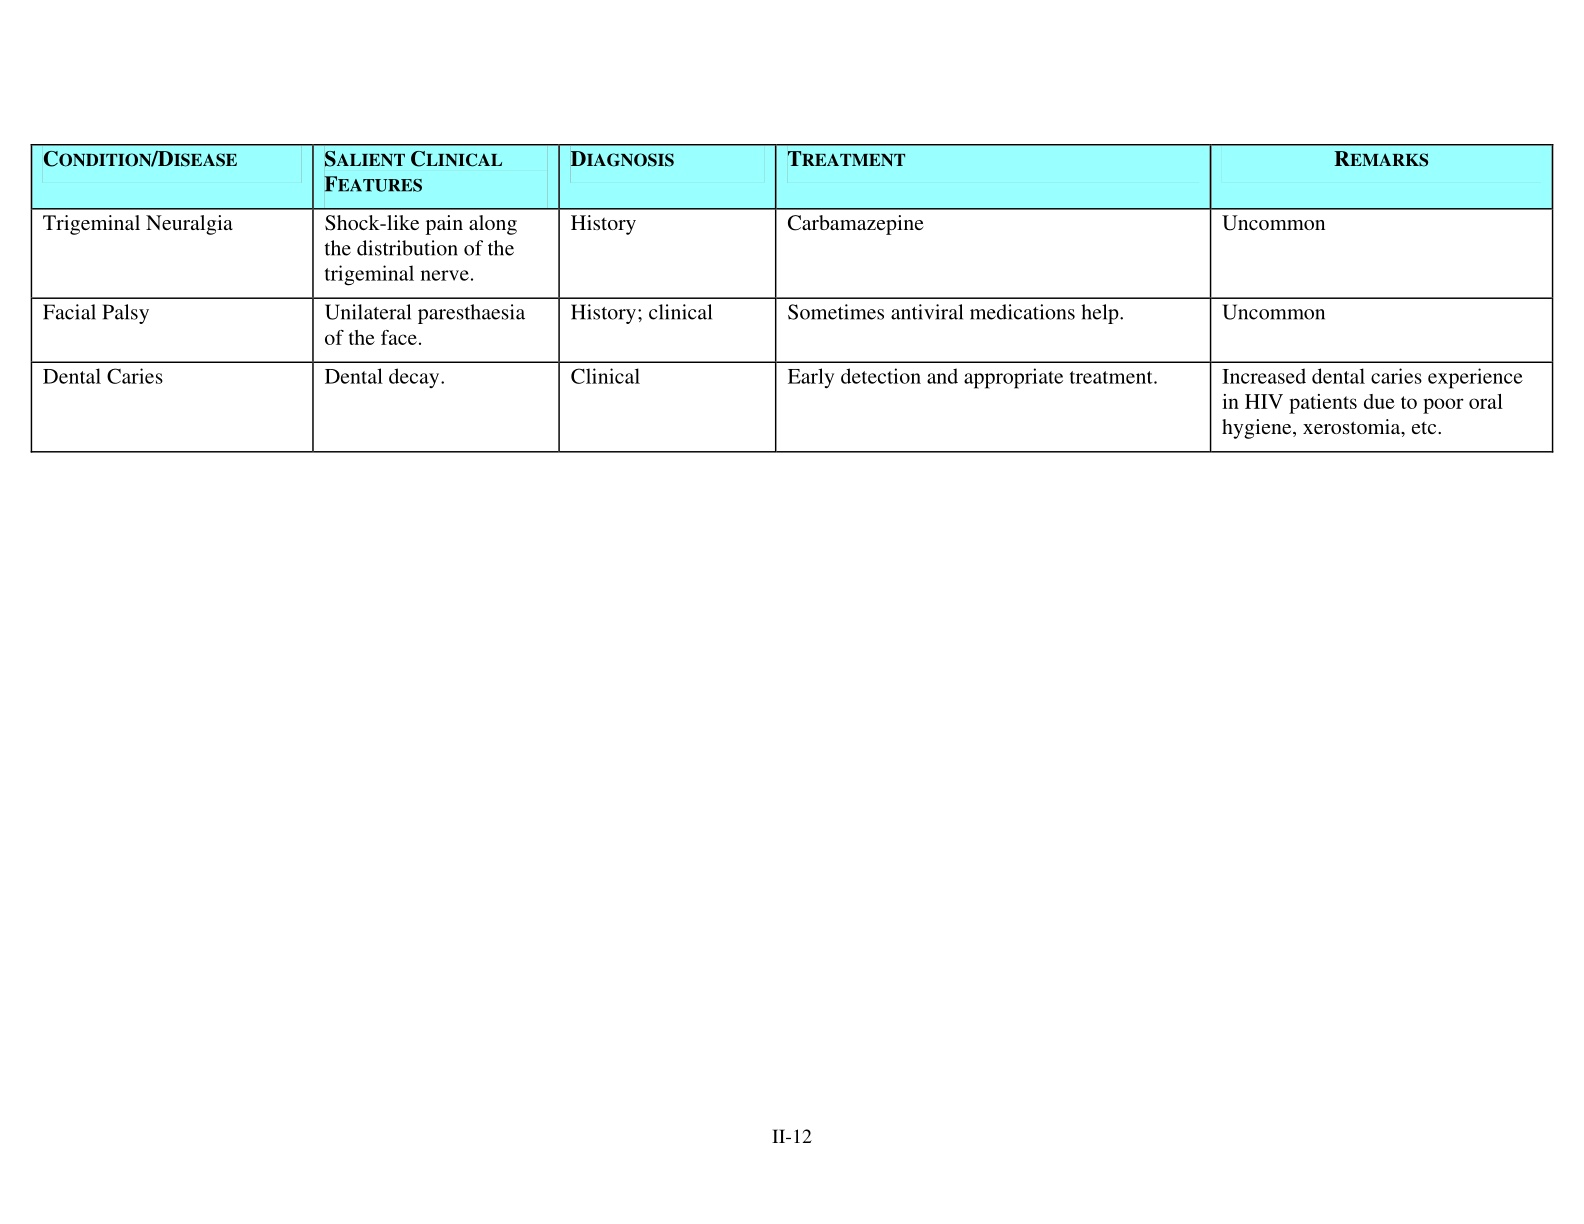full_lined: (30, 143, 1554, 453)
